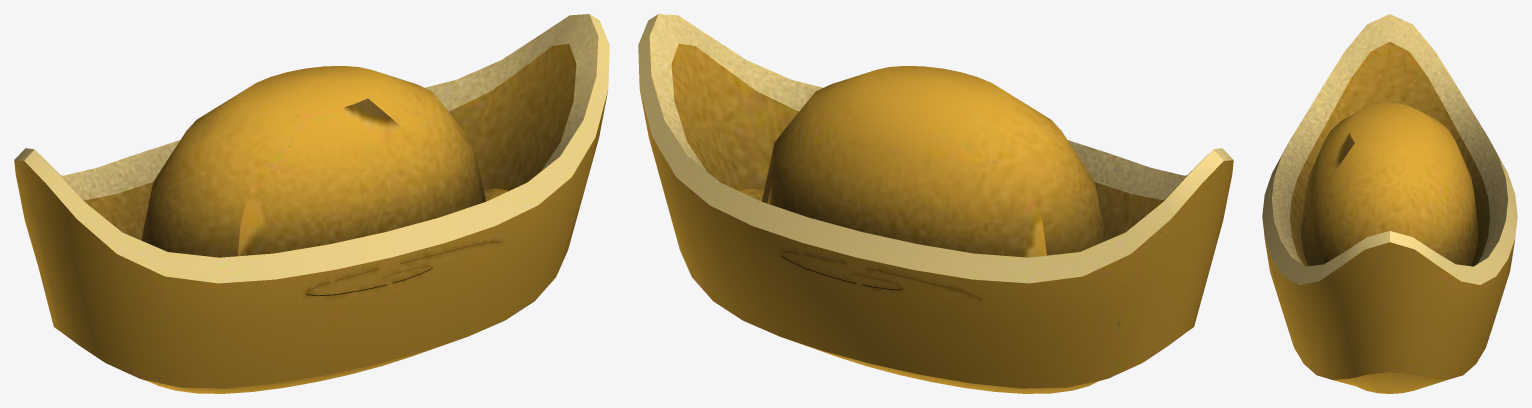
3 views of the same model, side by side, from view 1: azimuth 30°, elevation 25°; view 2: azimuth 150°, elevation 25°; view 3: azimuth 270°, elevation 25° (orthographic). The views are drawn at different scales.
Visible parts, largest first — view 1: Mirror_gold, Rolled_gold_highlights, Recessed_gold_engraving; view 2: Mirror_gold, Rolled_gold_highlights, Recessed_gold_engraving; view 3: Mirror_gold, Rolled_gold_highlights.
Part boxes in pixels (left/top/right/bottom): Mirror_gold: left=14, top=43, right=607, bottom=393; Rolled_gold_highlights: left=14, top=14, right=609, bottom=283; Recessed_gold_engraving: left=306, top=241, right=500, bottom=296; Mirror_gold: left=640, top=43, right=1233, bottom=393; Rolled_gold_highlights: left=638, top=14, right=1233, bottom=283; Recessed_gold_engraving: left=780, top=251, right=982, bottom=300; Mirror_gold: left=1265, top=42, right=1514, bottom=393; Rolled_gold_highlights: left=1262, top=14, right=1517, bottom=284.
Size of the model in its own units: 1 by 0.44 by 0.48.
3 materials, 3 textured.
